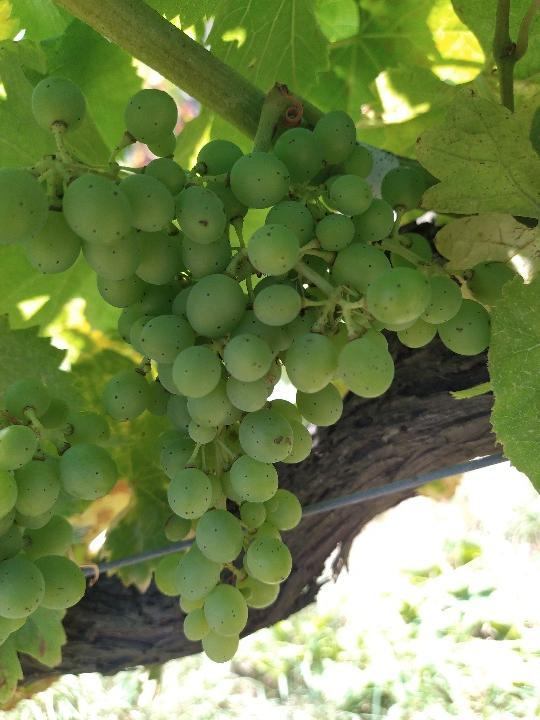grape: (6, 72, 518, 669)
